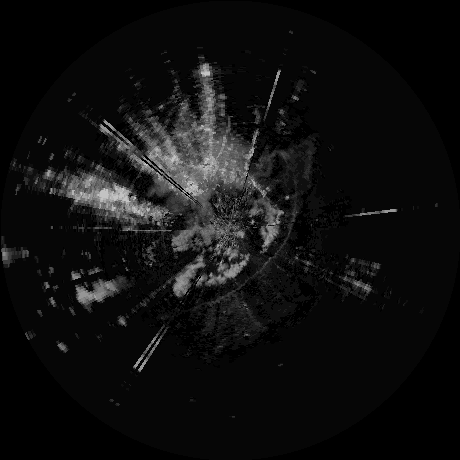frontgust: (187, 180, 294, 310)
